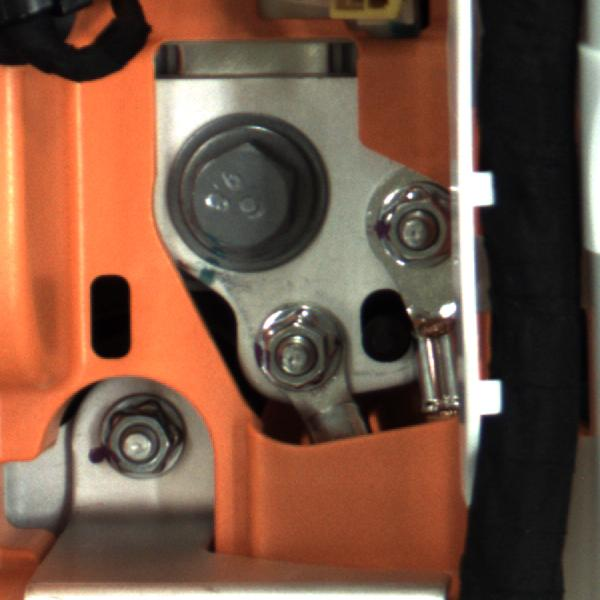nut_b: (162, 123, 321, 260)
screw_s: (84, 393, 188, 495), (237, 295, 339, 392), (356, 179, 458, 268)
